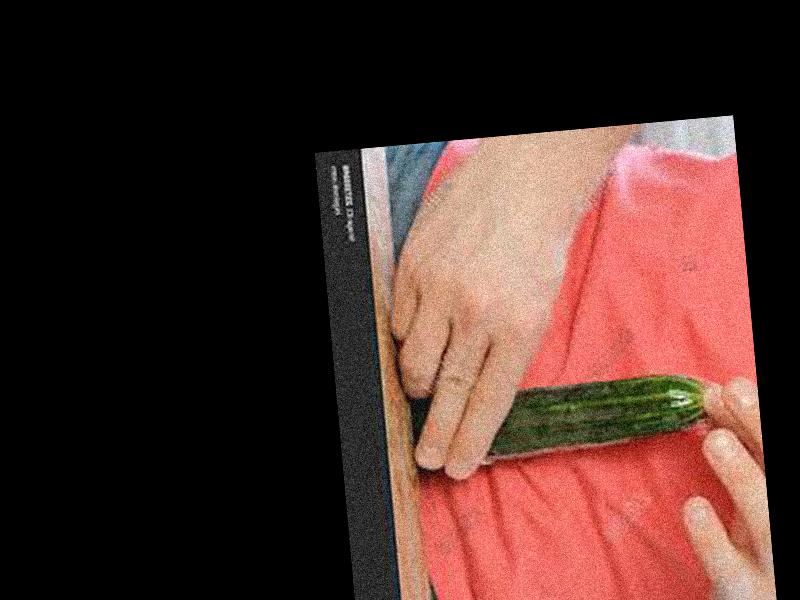Cucumber: (479, 369, 708, 460)
